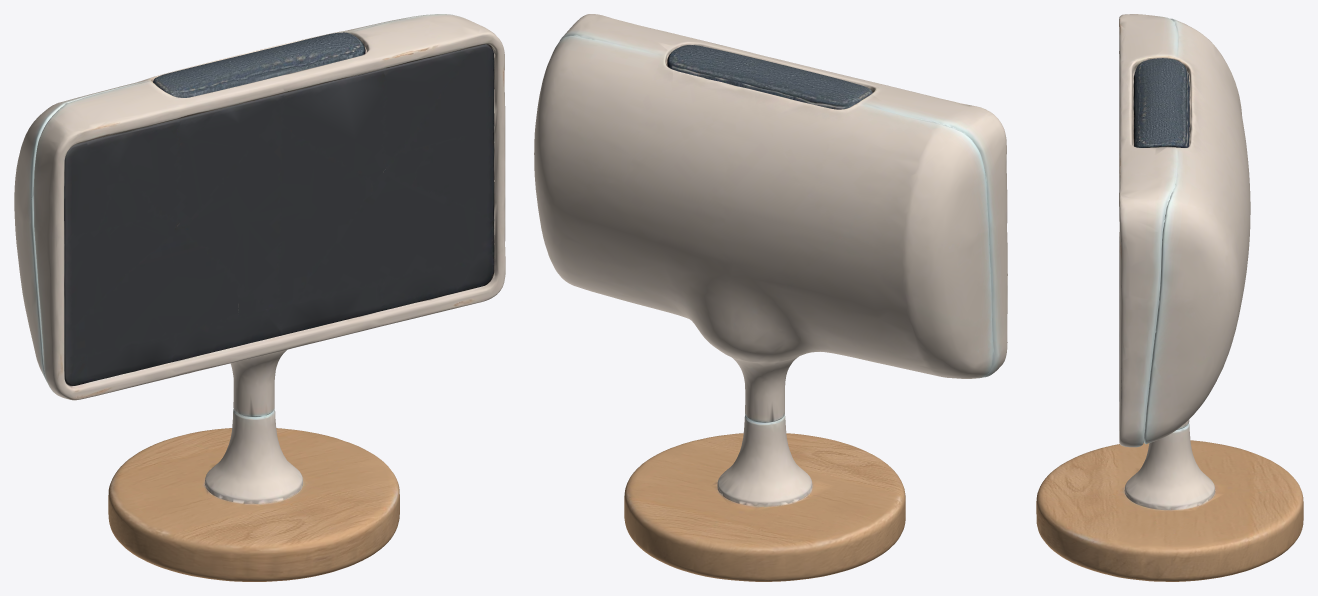
Rendered from monitor.high.glb.
3 renders of one model, left to right at view 1: azimuth 30°, elevation 25°; view 2: azimuth 150°, elevation 25°; view 3: azimuth 270°, elevation 25°, orthographic. The views are drawn at different scales.
Parts seen in each view (by area): view 1: tripo_node_e27f7cd5-86cc-4b60-932b-93221983cf39; view 2: tripo_node_e27f7cd5-86cc-4b60-932b-93221983cf39; view 3: tripo_node_e27f7cd5-86cc-4b60-932b-93221983cf39.
Boxes of the visible parts, box(x1,y1,x2,y2) form: tripo_node_e27f7cd5-86cc-4b60-932b-93221983cf39: box(14, 14, 505, 581); tripo_node_e27f7cd5-86cc-4b60-932b-93221983cf39: box(534, 14, 1007, 581); tripo_node_e27f7cd5-86cc-4b60-932b-93221983cf39: box(1036, 14, 1303, 581).
Size of the model in its own units: 0.6198 by 0.6141 by 0.3436.
1 material, 1 textured.
